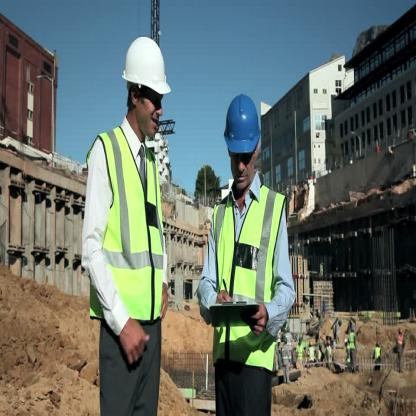helmet: (124, 34, 172, 96), (224, 93, 261, 153), (350, 324, 355, 332), (343, 338, 347, 344), (399, 328, 402, 334)
person: (89, 35, 171, 412), (199, 92, 291, 414), (396, 326, 405, 370), (349, 321, 357, 370), (283, 338, 291, 382), (342, 337, 351, 366), (374, 339, 382, 370), (296, 337, 305, 360), (308, 339, 315, 361), (325, 338, 331, 361), (318, 344, 324, 360)
vest: (96, 128, 164, 321), (215, 187, 278, 367), (283, 344, 290, 364), (349, 333, 356, 348), (297, 344, 304, 356), (374, 347, 381, 358), (398, 335, 404, 347), (346, 350, 350, 363)
